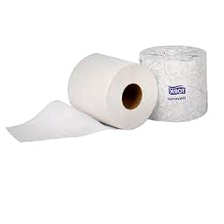tissue: (0, 47, 163, 146), (135, 40, 213, 126)
